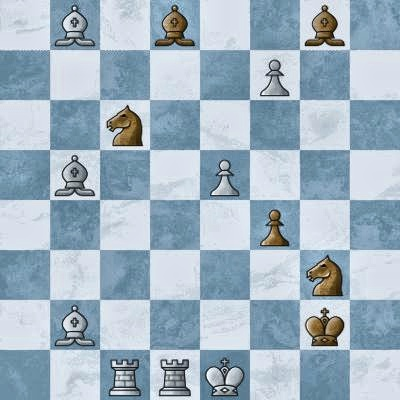black-bishop: (150, 0, 200, 50), (300, 0, 350, 50)
black-king: (300, 300, 350, 350)
black-knight: (100, 100, 150, 150), (300, 250, 350, 300)
black-pawn: (250, 200, 300, 250)
white-bishop: (50, 0, 100, 50), (50, 150, 100, 200), (50, 300, 100, 350)
white-king: (200, 350, 250, 400)
white-pawn: (250, 50, 300, 100), (200, 150, 250, 200)
white-rook: (100, 350, 150, 400), (150, 350, 200, 400)
